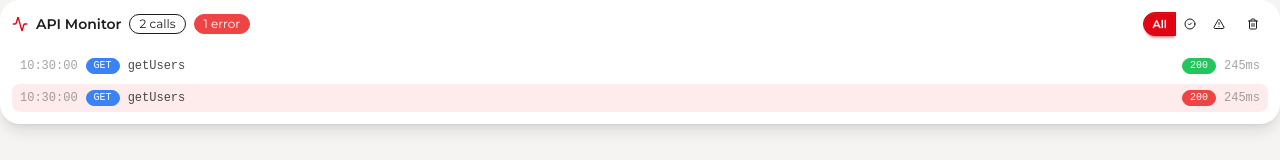
Test: ApiMonitorPanel › should filter by error when error filter clicked
The image size is (1280, 160).
Click the button with test id "filter-error" at point(1219, 24), box top-left (1204, 12), bottom-right (1234, 36)
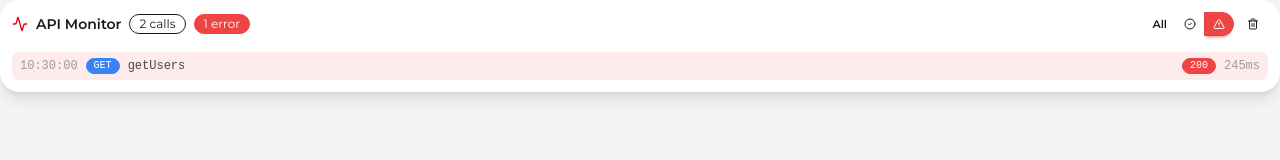
Expected: the button with test id "log-entry-call-2" is shown, top-left (12, 52), bottom-right (1268, 80)
Result: the button with test id "log-entry-call-1" is gone
